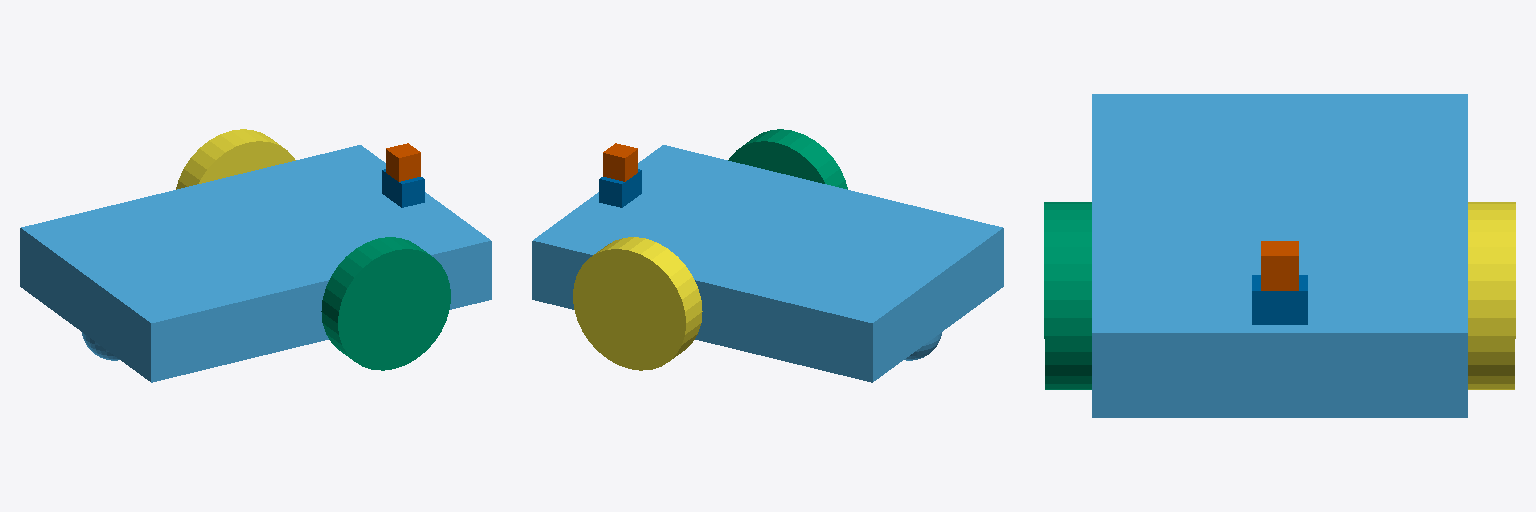
The robot description file, URDF, robot "simple":
<?xml version="1.0"?>
<robot name="simple">

<link name="base_link"></link>
<joint name="base_joint" type="fixed">
    <parent link="base_link"/>
    <child link="body"/>
</joint>

<link name="body">
<visual>
    <geometry>
        <box size="0.6 0.4 0.1"/>
    </geometry>
    <origin xyz="-0.1 0 0"/>
</visual>
<collision>
    <geometry>
        <box size="0.6 0.4 0.1"/>
    </geometry>
    <origin xyz="-0.1 0 0"/>
</collision>
<inertial>
    <mass value="0.5"/>
    <inertia
        ixx="0.0071"
        iyy="0.0154"
        izz="0.0217"
        ixy="0" ixz="0" iyz="0"
    />
    <origin xyz="-0.1 0 0"/>
</inertial>

<visual>
    <geometry>
        <sphere radius="0.05"/>
    </geometry>
    <origin xyz="-0.35 0 -0.05"/>
</visual>
<collision>
    <geometry>
        <sphere radius="0.05"/>
    </geometry>
    <origin xyz="-0.35 0 -0.05"/>
</collision>
<inertial>
    <mass value="0.05"/>
    <inertia
        ixx="0.00005"
        iyy="0.00005"
        izz="0.00005"
        ixy="0" ixz="0" iyz="0"
    />
    <origin xyz="-0.35 0 -0.05"/>
</inertial>

</link>

<link name="wheel_right">
<visual>
    <geometry>
        <cylinder length="0.05" radius="0.1"/>
    </geometry>
    <origin xyz="0 0 0.025"/>
</visual>
<collision>
    <geometry>
        <cylinder length="0.05" radius="0.1"/>
    </geometry>
    <origin xyz="0 0 0.025"/>
</collision>
<inertial>
    <mass value="0.1"/>
    <inertia
        ixx="0.000146"
        iyy="0.000146"
        izz="0.0005"
        ixy="0" ixz="0" iyz="0"
    />
    <origin xyz="0 0 0.025"/>
</inertial>
</link>

<link name="wheel_left">
<visual>
    <geometry>
        <cylinder length="0.05" radius="0.1"/>
    </geometry>
    <origin xyz="0 0 0.025"/>
</visual>
<collision>
    <geometry>
        <cylinder length="0.05" radius="0.1"/>
    </geometry>
    <origin xyz="0 0 0.025"/>
</collision>
<inertial>
    <mass value="0.1"/>
    <inertia
        ixx="0.000146"
        iyy="0.000146"
        izz="0.0005"
        ixy="0" ixz="0" iyz="0"
    />
    <origin xyz="0 0 0.025"/>
</inertial>
</link>

<link name="T265">
<visual>
    <geometry>
        <box size="0.04 0.06 0.04"/>
    </geometry>
    <origin xyz="0 0 0.02"/>
</visual>
<collision>
    <geometry>
        <box size="0.04 0.06 0.04"/>
    </geometry>
    <origin xyz="0 0 0.02"/>
</collision>
<inertial>
    <mass value="0.05"/>
    <inertia
        ixx="0.0000217"
        iyy="0.0000133"
        izz="0.0000217"
        ixy="0" ixz="0" iyz="0"
    />
    <origin xyz="0 0 0.02"/>
</inertial>
</link>

<link name="D435i">
<visual>
    <geometry>
        <box size="0.04 0.04 0.04"/>
    </geometry>
    <origin xyz="0 0 0.02"/>
</visual>
<collision>
    <geometry>
        <box size="0.04 0.04 0.04"/>
    </geometry>
    <origin xyz="0 0 0.02"/>
</collision>
<inertial>
    <mass value="0.05"/>
    <inertia
        ixx="0.0000133"
        iyy="0.0000133"
        izz="0.0000133"
        ixy="0" ixz="0" iyz="0"
    />
    <origin xyz="0 0 0.02"/>
</inertial>
</link>

<joint name="wheel_right" type="continuous">
    <parent link="body"/>
    <child link="wheel_right"/>
    <origin xyz="0 -0.2 0" rpy="1.571 0 0"/>
    <axis xyz="0 0 -1"/>
</joint>

<joint name="wheel_left" type="continuous">
    <parent link="body"/>
    <child link="wheel_left"/>
    <origin xyz="0 0.2 0" rpy="-1.571 0 0"/>
    <axis xyz="0 0 1"/>
</joint>

<joint name="T265" type="fixed">
    <parent link="body"/>
    <child link="T265"/>
    <origin xyz="0.16 0 0.05"/>
</joint>

<joint name="D435i" type="fixed">
    <parent link="body"/>
    <child link="D435i"/>
    <origin xyz="0.16 0 0.09"/>
</joint>

<gazebo>
<plugin filename="libgazebo_ros_control.so" name="control"/>
</gazebo>

<transmission name="wheel_right_tran">
    <type>transmission_interface/SimpleTransmission</type>
    <joint name="wheel_right">
        <hardwareInterface>VelocityJointInterface</hardwareInterface>
    </joint>
    <actuator name="wheel_right_actr">
        <hardwareInterface>VelocityJointInterface</hardwareInterface>
        <mechanicalReduction>1</mechanicalReduction>
    </actuator>
</transmission>

<transmission name="wheel_left_tran">
    <type>transmission_interface/SimpleTransmission</type>
    <joint name="wheel_left">
        <hardwareInterface>VelocityJointInterface</hardwareInterface>
    </joint>
    <actuator name="wheel_left_actr">
        <hardwareInterface>VelocityJointInterface</hardwareInterface>
        <mechanicalReduction>1</mechanicalReduction>
    </actuator>
</transmission>

<gazebo reference="T265">
<sensor type="multicamera" name="T265">
    <update_rate>30.0</update_rate>
    <camera name="left">
        <pose>0 0.035 0 0 0 0</pose>
        <horizontal_fov>1.3962634</horizontal_fov>
        <image>
            <width>800</width>
            <height>800</height>
            <format>R8G8B8</format>
        </image>
        <clip>
            <near>0.02</near>
            <far>300</far>
        </clip>
        <noise>
            <type>gaussian</type>
            <mean>0.0</mean>
            <stddev>0.007</stddev>
        </noise>
    </camera>
    <camera name="right">
        <pose>0 -0.035 0 0 0 0</pose>
        <horizontal_fov>1.3962634</horizontal_fov>
        <image>
            <width>800</width>
            <height>800</height>
            <format>R8G8B8</format>
        </image>
        <clip>
            <near>0.02</near>
            <far>300</far>
        </clip>
        <noise>
            <type>gaussian</type>
            <mean>0.0</mean>
            <stddev>0.007</stddev>
        </noise>
    </camera>
    <plugin name="T265_controller" filename="libgazebo_ros_multicamera.so">
        <alwaysOn>true</alwaysOn>
        <updateRate>0.0</updateRate>
        <cameraName>T265</cameraName>
        <imageTopicName>image_raw</imageTopicName>
        <cameraInfoTopicName>camera_info</cameraInfoTopicName>
        <frameName>T265</frameName>
        <hackBaseline>0.07</hackBaseline>
        <distortionK1>0.0</distortionK1>
        <distortionK2>0.0</distortionK2>
        <distortionK3>0.0</distortionK3>
        <distortionT1>0.0</distortionT1>
        <distortionT2>0.0</distortionT2>
    </plugin>
</sensor>
</gazebo>

<gazebo>
<plugin name="imu_plugin" filename="libgazebo_ros_imu.so">
    <alwaysOn>true</alwaysOn>
    <bodyName>T265</bodyName>
    <topicName>T265/imu</topicName>
    <serviceName>imu_service</serviceName>
    <gaussianNoise>0.0</gaussianNoise>
    <updateRate>20.0</updateRate>
</plugin>
</gazebo>

<gazebo reference="D435i">
<sensor name="D435i" type="depth">
    <update_rate>20</update_rate>
    <camera>
        <horizontal_fov>1.047198</horizontal_fov>
        <image>
            <width>640</width>
            <height>480</height>
            <format>R8G8B8</format>
        </image>
        <clip>
            <near>0.05</near>
            <far>3</far>
        </clip>
    </camera>
    <plugin name="D435i_controller" filename="libgazebo_ros_openni_kinect.so">
        <baseline>0.2</baseline>
        <alwaysOn>true</alwaysOn>
        <updateRate>1.0</updateRate>
        <cameraName>D435i</cameraName>
        <imageTopicName>/D435i/color/image_raw</imageTopicName>
        <cameraInfoTopicName>/D435i/color/camera_info</cameraInfoTopicName>
        <depthImageTopicName>/D435i/depth/image_raw</depthImageTopicName>
        <depthImageInfoTopicName>/D435i/depth/camera_info</depthImageInfoTopicName>
        <pointCloudTopicName>/D435i/depth/points</pointCloudTopicName>
        <frameName>D435i</frameName>
        <pointCloudCutoff>0.5</pointCloudCutoff>
        <pointCloudCutoffMax>3.0</pointCloudCutoffMax>
        <distortionK1>0.00000001</distortionK1>
        <distortionK2>0.00000001</distortionK2>
        <distortionK3>0.00000001</distortionK3>
        <distortionT1>0.00000001</distortionT1>
        <distortionT2>0.00000001</distortionT2>
        <CxPrime>0</CxPrime>
        <Cx>0</Cx>
        <Cy>0</Cy>
        <focalLength>0</focalLength>
        <hackBaseline>0</hackBaseline>
    </plugin>
</sensor>
</gazebo>

</robot>

--- Facts derived from the render (not from the file) ---
3 views of the same robot in one strip: view 1: azimuth 30°, elevation 25°; view 2: azimuth 150°, elevation 25°; view 3: azimuth 270°, elevation 25° (orthographic).
Robot: simple — 6 links, 5 joints (2 continuous, 3 fixed); root link base_link; default pose: every joint at zero.
Links seen in each view (by area): view 1: body, wheel_right, wheel_left, D435i, T265; view 2: body, wheel_left, wheel_right, D435i, T265; view 3: body, wheel_right, wheel_left, T265, D435i.
Link boxes in pixels (x1,y1,x2,y2): body: (20,145,491,382); wheel_right: (321,237,450,370); wheel_left: (176,129,295,189); D435i: (386,143,420,181); T265: (382,169,424,207); body: (532,145,1003,382); wheel_left: (573,237,702,370); wheel_right: (728,129,847,189); D435i: (603,143,637,181); T265: (599,169,641,207); body: (1092,94,1467,417); wheel_right: (1044,202,1091,389); wheel_left: (1468,202,1515,389); T265: (1252,275,1307,324); D435i: (1261,241,1298,290).
Bounding box of the posed robot: 0.6 × 0.5 × 0.23 m (x, y, z).
Geometry: primitives only (box / cylinder / sphere), no mesh files.